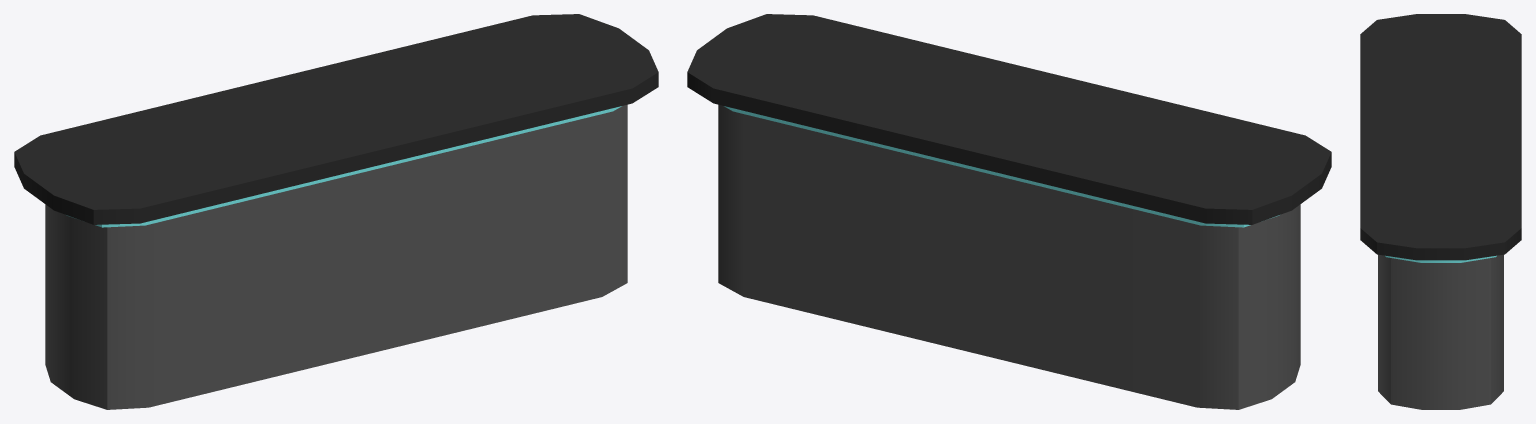
File: BarTop_01.fbx
3 views of the same model, side by side, from view 1: azimuth 30°, elevation 25°; view 2: azimuth 150°, elevation 25°; view 3: azimuth 270°, elevation 25° (orthographic). The views are drawn at different scales.
Visible parts, largest first — view 1: BarTop_01; view 2: BarTop_01; view 3: BarTop_01.
Part boxes in pixels (x1,y1,x2,y2): BarTop_01: [14, 14, 658, 409]; BarTop_01: [687, 14, 1331, 409]; BarTop_01: [1360, 14, 1521, 409].
Bounding box in the file's own units: 869 × 296 × 253.
